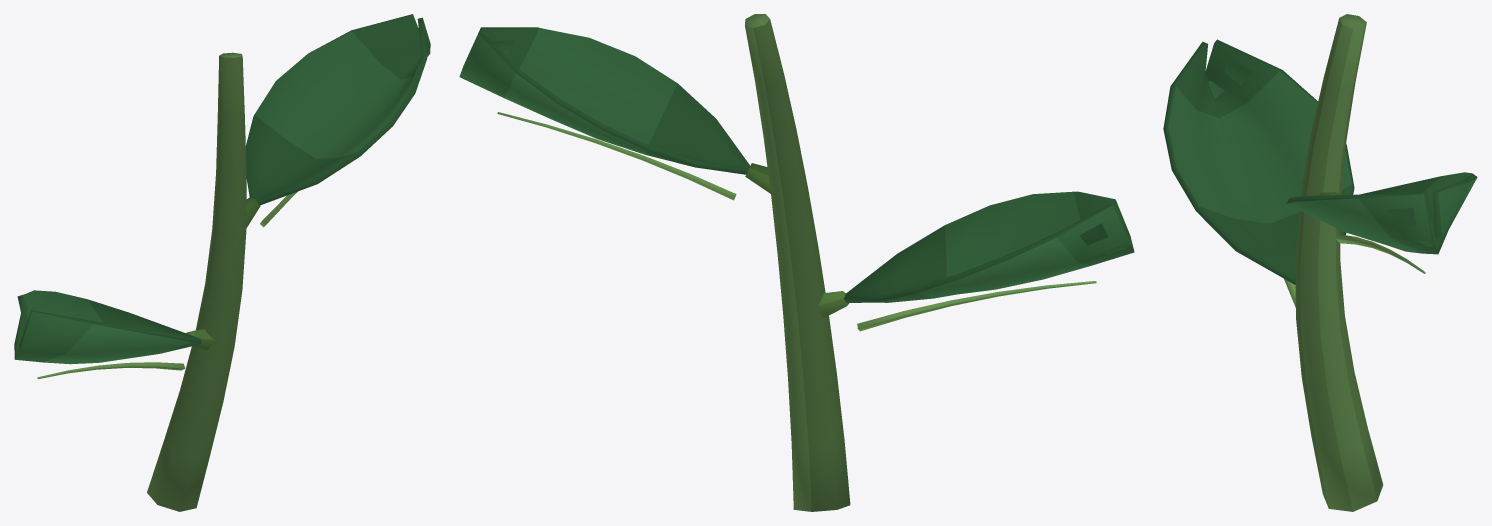
The model's file is garden-orchid-sprout-stem-2.glb.
3 renders of one model, left to right at view 1: azimuth 30°, elevation 25°; view 2: azimuth 150°, elevation 25°; view 3: azimuth 270°, elevation 25°, orthographic. The views are drawn at different scales.
Parts seen in each view (by area): view 1: orchid-sprout-stem-2; view 2: orchid-sprout-stem-2; view 3: orchid-sprout-stem-2.
Part boxes in pixels (x1,y1,x2,y2): orchid-sprout-stem-2: (14,14,430,511); orchid-sprout-stem-2: (459,14,1134,511); orchid-sprout-stem-2: (1163,14,1477,511).
Size of the model in its own units: 0.1557 by 0.1261 by 0.0696.
